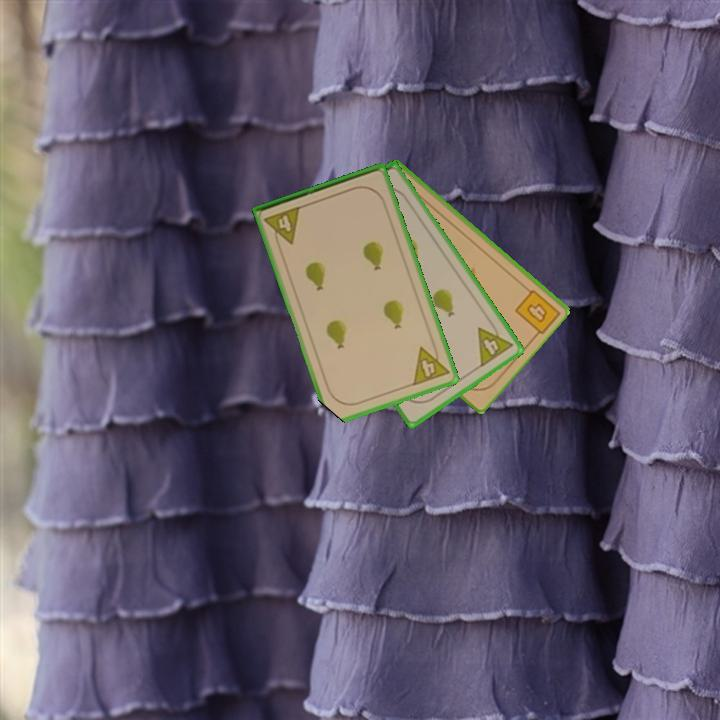4b: (523, 299, 551, 326)
4p: (474, 316, 516, 370), (409, 339, 452, 389), (261, 203, 304, 251)
